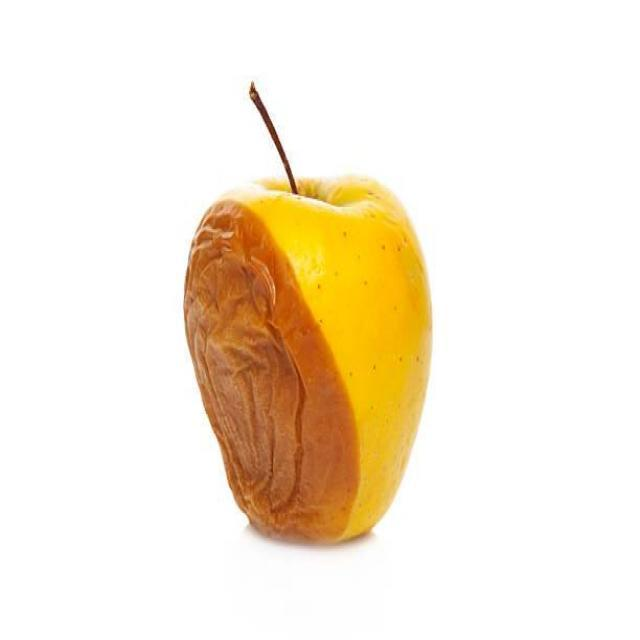Apple: (180, 155, 440, 568)
